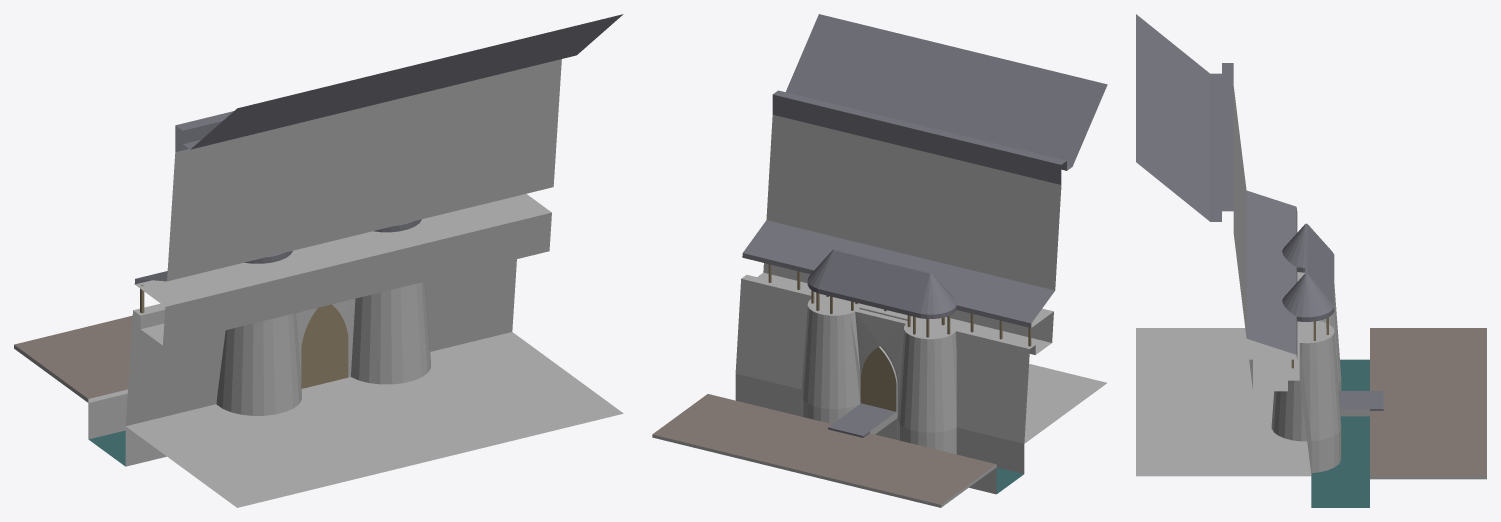
Rendered from rrcc.obj.
3 views of the same model, side by side, from view 1: azimuth 30°, elevation 25°; view 2: azimuth 150°, elevation 25°; view 3: azimuth 270°, elevation 25° (orthographic). The views are drawn at different scales.
Parts seen in each view (by area): view 1: rrcc; view 2: rrcc; view 3: rrcc.
Boxes of the visible parts, <box> form: rrcc: <box>14,14,623,507</box>; rrcc: <box>652,14,1107,507</box>; rrcc: <box>1136,14,1486,507</box>.
Size of the model in its own units: 30 by 32.63 by 30.
